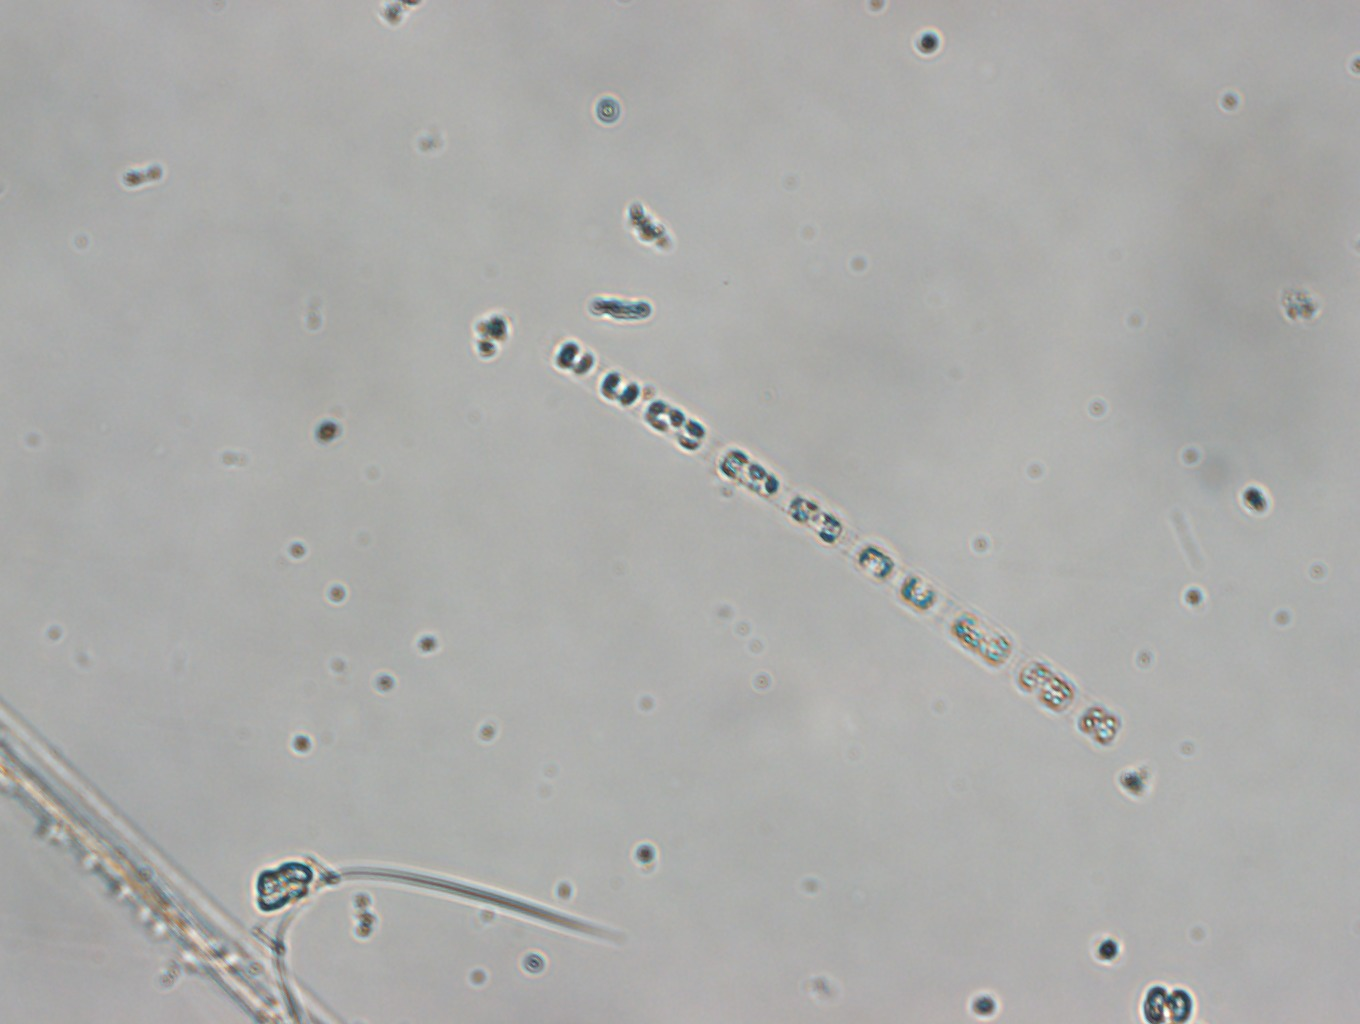skeletonema: (552, 330, 1139, 748)
